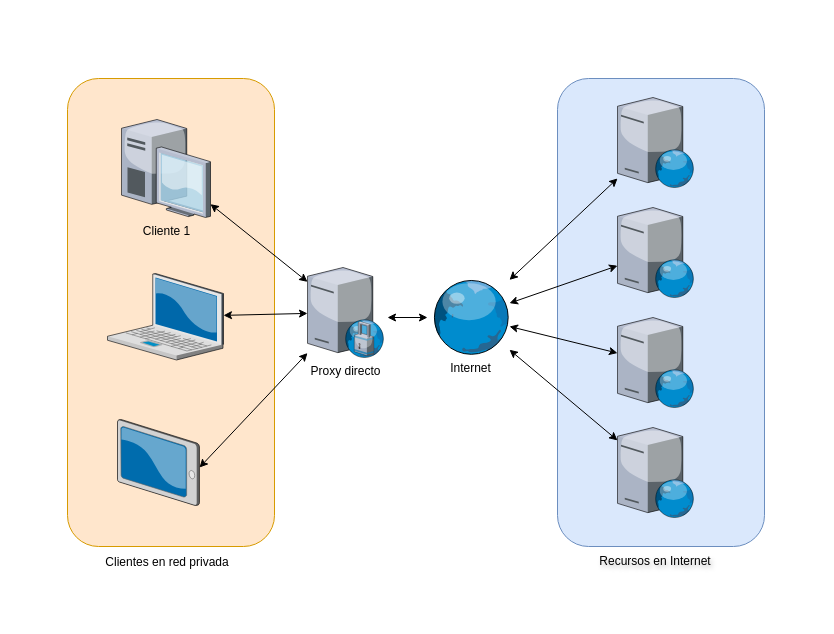
Some shapes in this 834 by 634 pixel diagram are drawn without their labels. Here are the shapes that lost their labels. From the top down, the centre of each, then its label:
At (x=165, y=316): "Cliente 2".
At (x=158, y=462): "Cliente 3".
